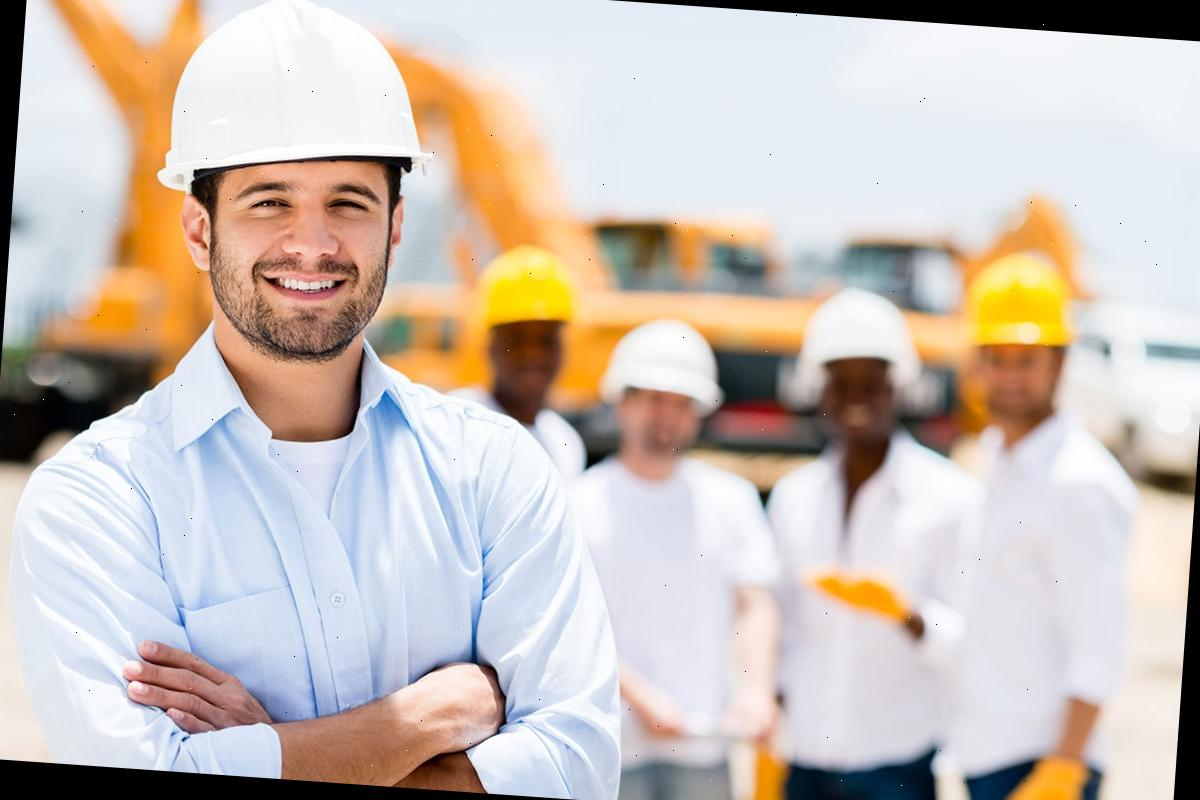helmet: (141, 0, 432, 204), (792, 282, 930, 395), (960, 248, 1082, 356), (596, 312, 732, 406), (470, 242, 587, 340)
no_wear: (0, 370, 620, 800), (945, 436, 1146, 783), (756, 460, 974, 777), (560, 458, 763, 758)
